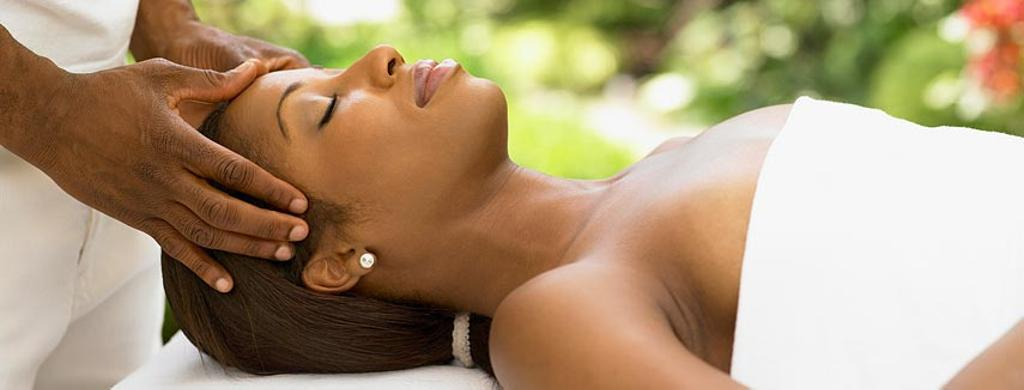face: (247, 43, 507, 163)
